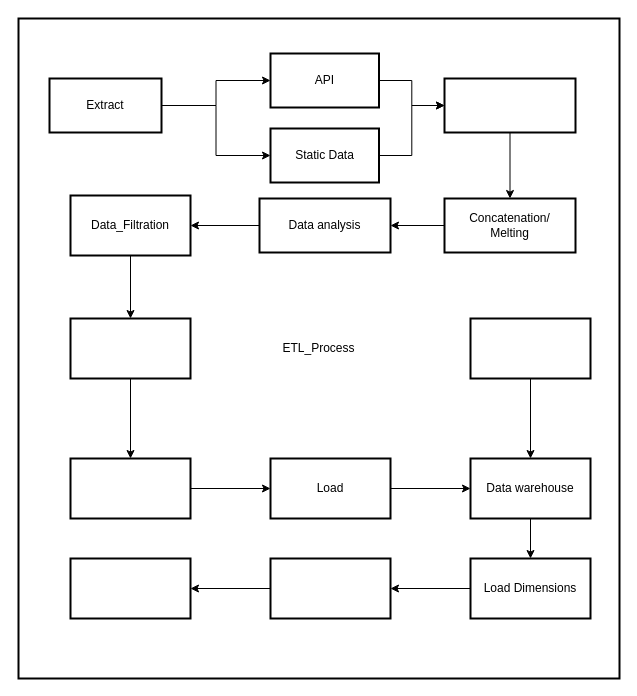
Some shapes in this 637 by 696 pixel diagram are drawn without their labels. The shapes that lost their labels are listed below. From the top down, each one's centre as x and y in pixels, then its label:
point (509, 105): Transform
point (130, 348): Data_cleaning
point (530, 348): DAG
point (130, 488): Data aggregation
point (130, 588): Visualisation
point (330, 588): Load Fact Table
